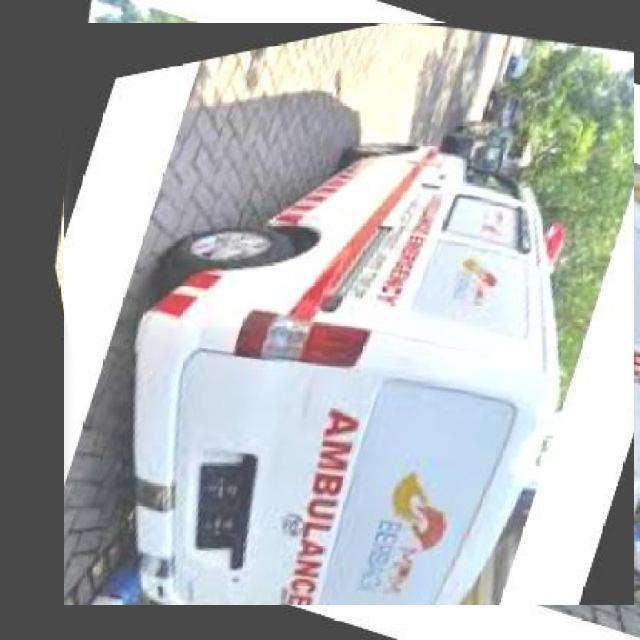emergency-vehicle: (61, 26, 637, 603)
